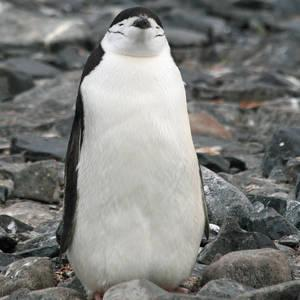chinstrap: (46, 0, 220, 300)
